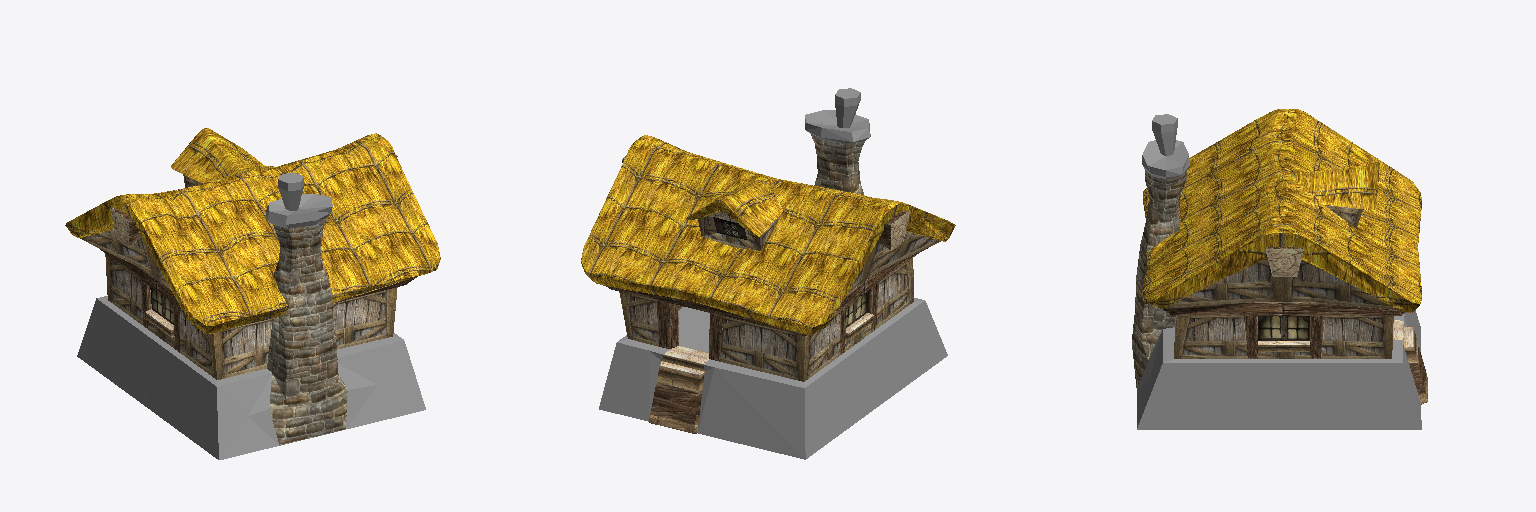
3 renders of one model, left to right at view 1: azimuth 30°, elevation 25°; view 2: azimuth 150°, elevation 25°; view 3: azimuth 270°, elevation 25°, orthographic.
Visible parts, largest first — view 1: exterior; view 2: exterior, interior; view 3: exterior.
Part boxes in pixels (left/top/right/bottom): exterior: left=65, top=128, right=440, bottom=459; exterior: left=581, top=88, right=955, bottom=459; interior: left=678, top=305, right=709, bottom=352; exterior: left=1132, top=109, right=1427, bottom=429.
Size of the model in its own units: 19.28 by 17.23 by 18.43.
13 materials, 10 textured.